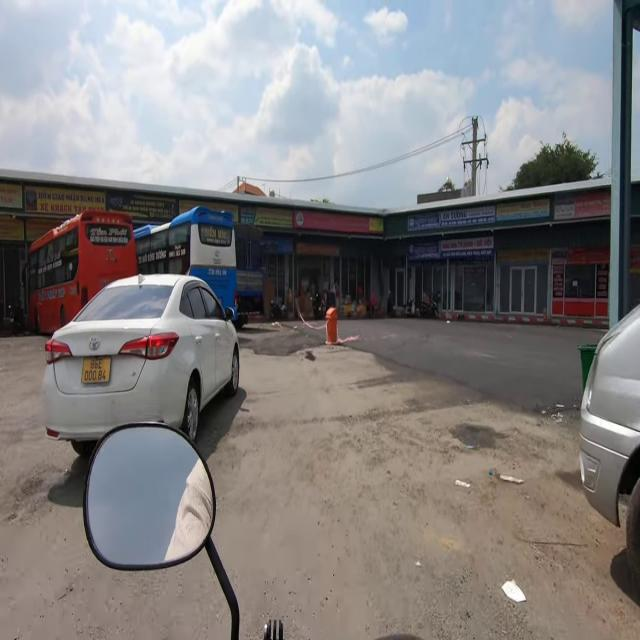bien_vang: (80, 356, 111, 384)
